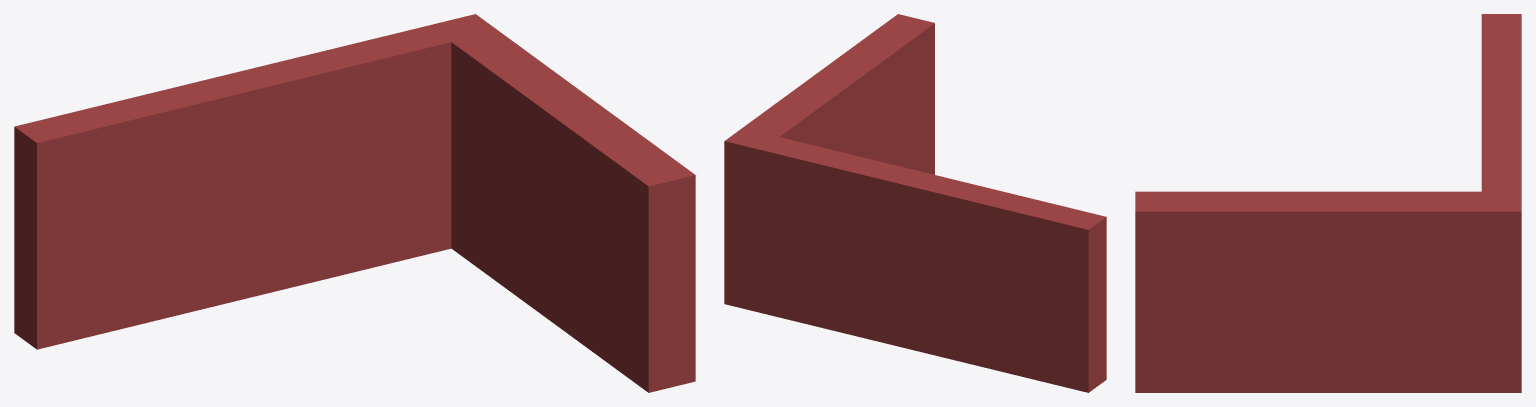
The model's file is 5_SignLight.fbx.
3 views of the same model, side by side, from view 1: azimuth 30°, elevation 25°; view 2: azimuth 150°, elevation 25°; view 3: azimuth 270°, elevation 25° (orthographic). The views are drawn at different scales.
Visible parts, largest first — view 1: pasted___pCube19; view 2: pasted___pCube19; view 3: pasted___pCube19.
Part boxes in pixels (bbox=[...]): pasted___pCube19: bbox=[14, 14, 695, 392]; pasted___pCube19: bbox=[724, 14, 1106, 392]; pasted___pCube19: bbox=[1135, 14, 1521, 392].
Bounding box in the file's own units: 3.33 × 1.43 × 2.75.
